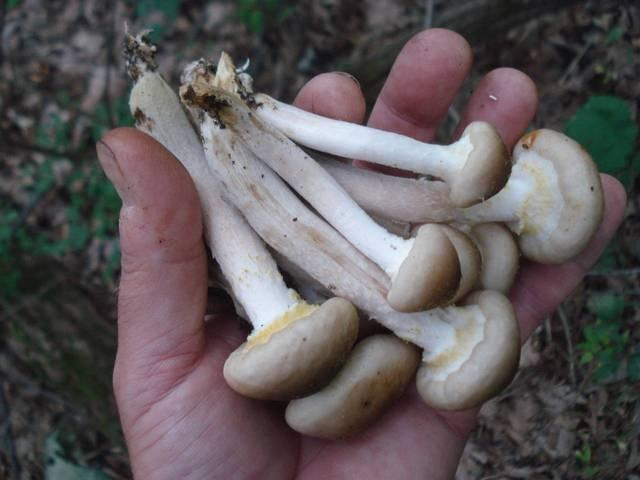edible_mushroom: (118, 25, 608, 438)
